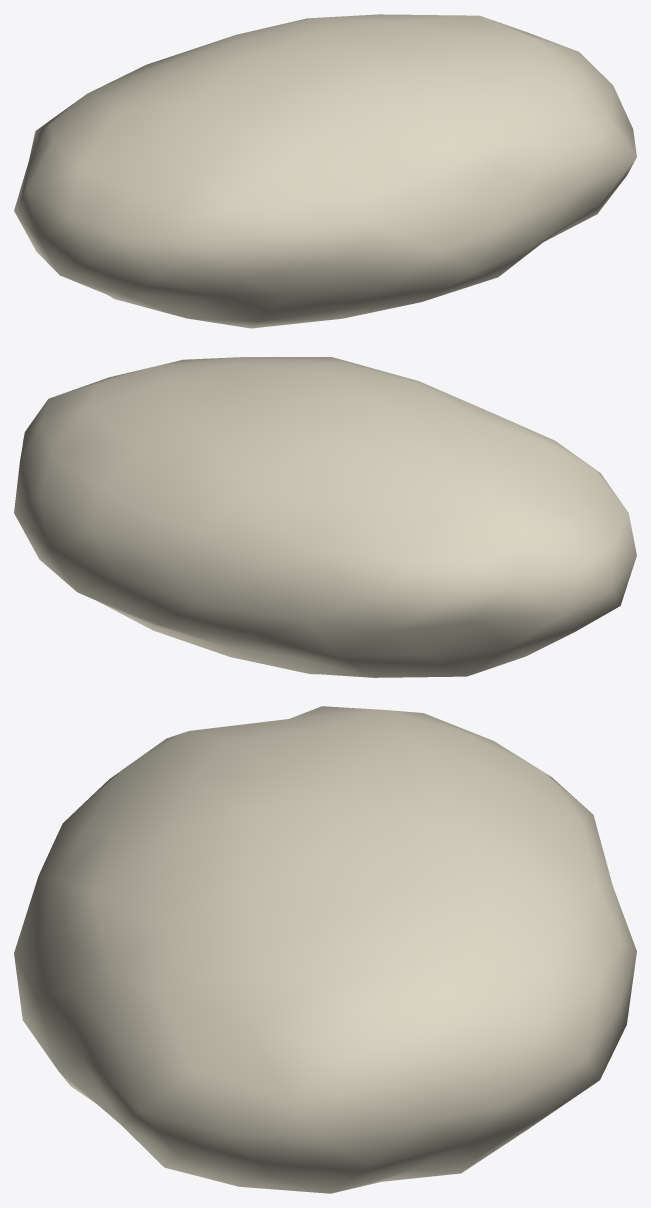
The model's file is Boulder_C.fbx.
The picture shows the model from 3 angles, top to bottom: view 1: azimuth 30°, elevation 25°; view 2: azimuth 150°, elevation 25°; view 3: azimuth 270°, elevation 25°; orthographic projection. The views are drawn at different scales.
Parts seen in each view (by area): view 1: Boulder_C; view 2: Boulder_C; view 3: Boulder_C.
Boxes of the visible parts, <box> form: Boulder_C: <box>14,14,636,328</box>; Boulder_C: <box>14,357,636,677</box>; Boulder_C: <box>14,706,636,1193</box>.
Size of the model in its own units: 1.25 by 0.4512 by 0.87.
